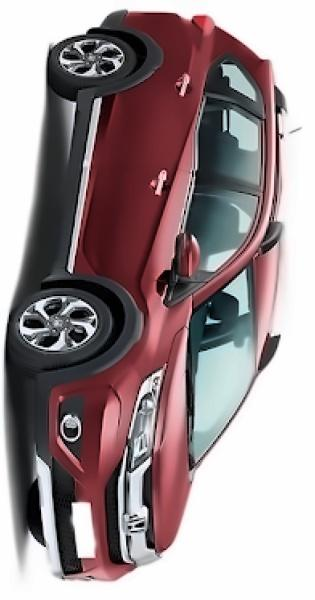Car hood: (149, 322, 198, 559)
Driver-s door - -F-R-: (76, 184, 271, 299)
Fender - -F-R-: (56, 270, 198, 381)
Fender - -R-R-: (129, 22, 245, 72)
Front bumper: (27, 355, 145, 590)
Headlight - -L-: (120, 526, 168, 575)
Headlight - -R-: (122, 357, 168, 480)
Passenger-s door - -R-R-: (78, 65, 274, 186)
Rear bumper: (51, 4, 185, 52)
Rear light - -R-: (181, 6, 218, 45)
Side bumper - -R-: (38, 79, 111, 297)
Side mirror - -R-: (165, 222, 204, 287)
